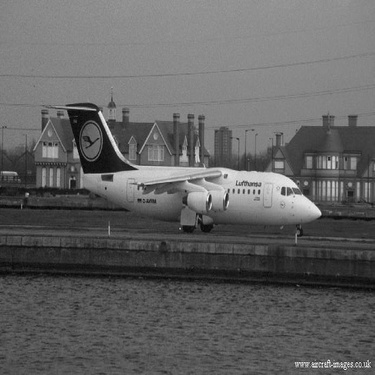airplane: (11, 89, 339, 247)
